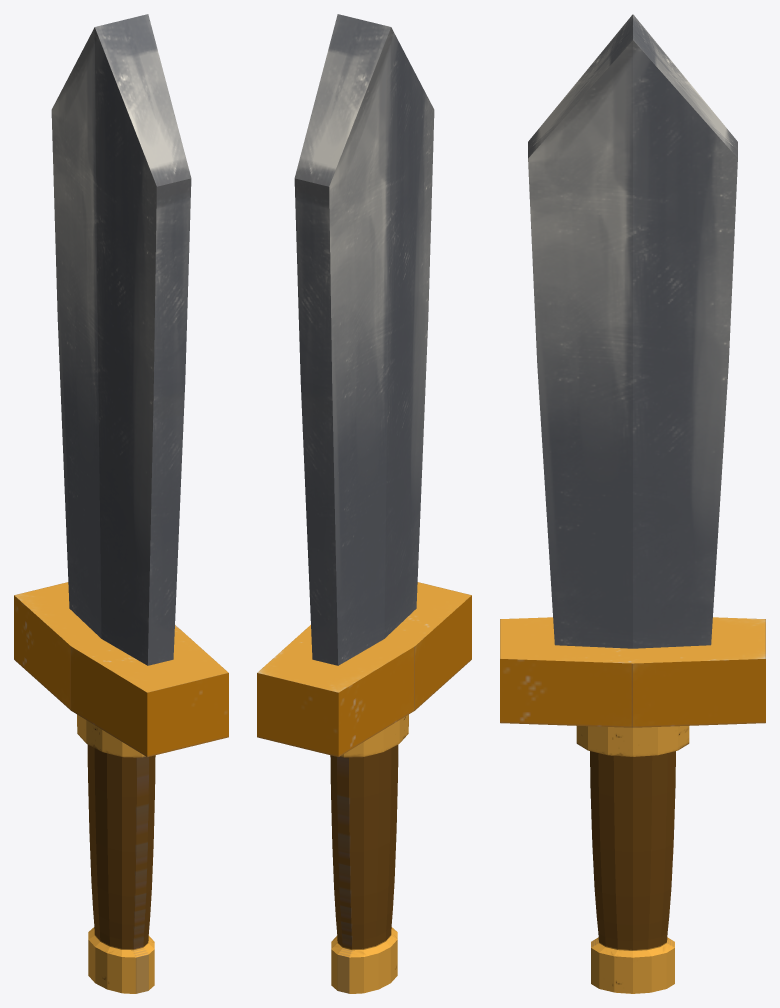
Rendered from B Sword.fbx.
3 views of the same model, side by side, from view 1: azimuth 30°, elevation 25°; view 2: azimuth 150°, elevation 25°; view 3: azimuth 270°, elevation 25° (orthographic).
Visible parts, largest first — view 1: B Knife, B Sword; view 2: B Knife, B Sword; view 3: B Knife, B Sword.
Boxes of the visible parts, x1,y1,x2,y2 form: B Knife: (14, 14, 228, 756); B Sword: (77, 714, 155, 993); B Knife: (257, 14, 471, 756); B Sword: (330, 714, 408, 993); B Knife: (500, 14, 765, 727); B Sword: (576, 726, 689, 993).
Size of the model in its own units: 15.91 by 145 by 36.45.
